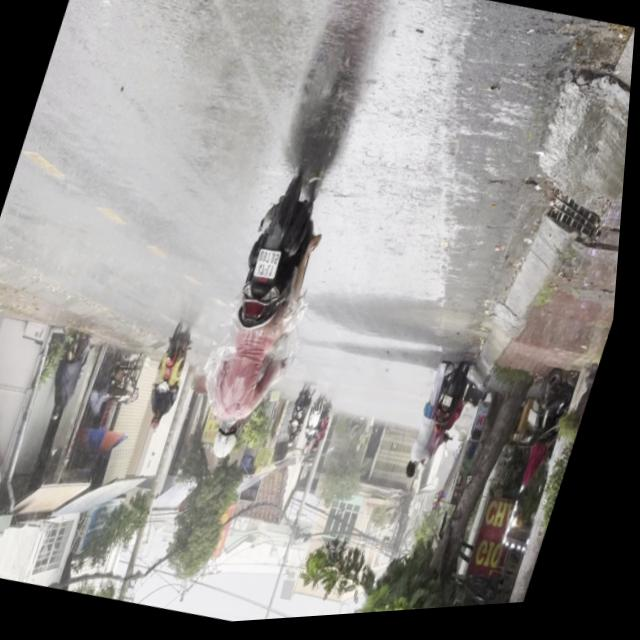helmet: (213, 422, 248, 467)
licenseplate: (185, 165, 349, 477)
nohelmet: (255, 252, 285, 286)
